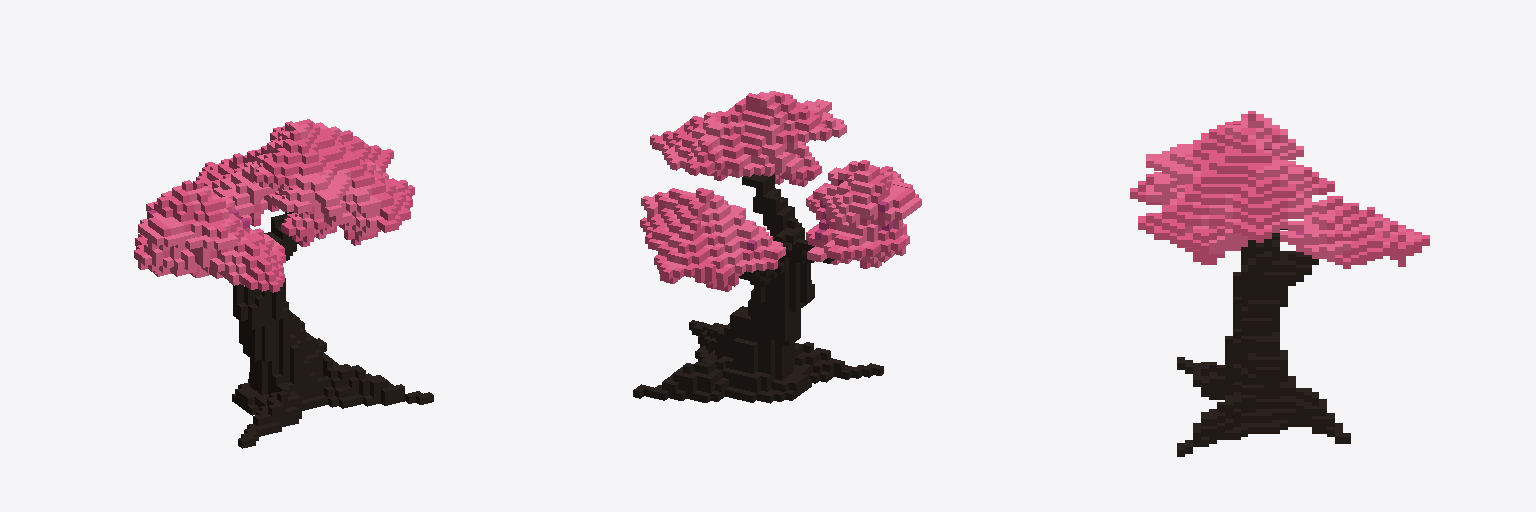
3 views of the same model, side by side, from view 1: azimuth 30°, elevation 25°; view 2: azimuth 150°, elevation 25°; view 3: azimuth 270°, elevation 25° (orthographic).
Parts seen in each view (by area): view 1: object 1; view 2: object 1; view 3: object 1.
Boxes of the visible parts, <box> form: object 1: <box>134,119,433,448</box>; object 1: <box>633,91,921,403</box>; object 1: <box>1130,111,1429,456</box>.
Size of the model in its own units: 3.7 by 3.9 by 3.8.
Materials: 1 (1 with a texture image).